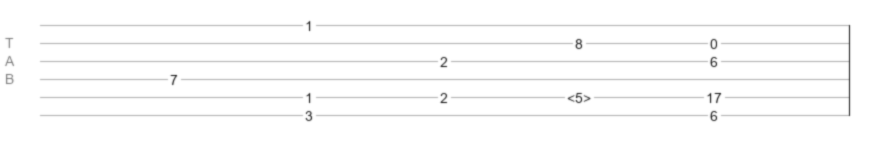0: (710, 36, 718, 46)
1: (305, 90, 313, 100), (305, 18, 313, 28)
17: (706, 90, 722, 100)
2: (440, 54, 448, 64), (440, 90, 448, 100)
3: (305, 108, 313, 118)
6: (710, 54, 718, 64), (710, 108, 718, 118)
7: (170, 72, 178, 82)
8: (575, 36, 583, 46)
harmonic: (567, 90, 591, 100)
